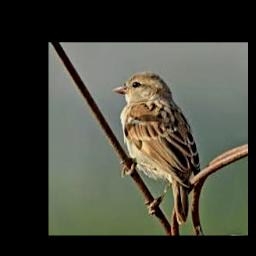Sparrow: (112, 72, 200, 225)
